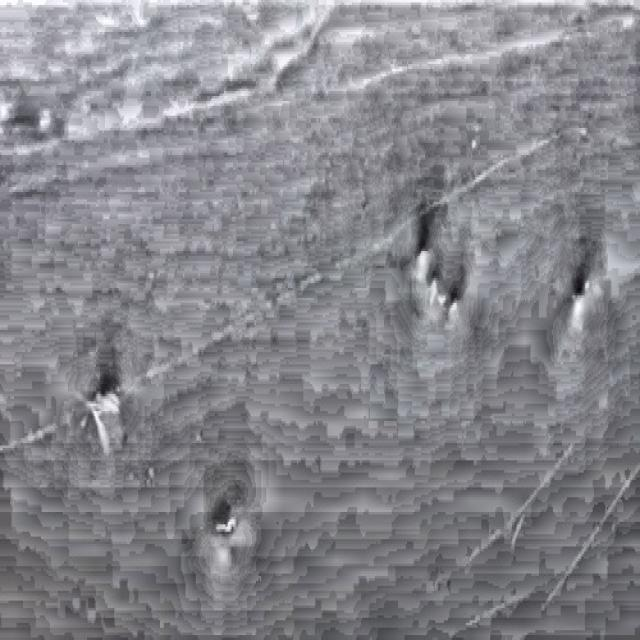dent: (81, 330, 139, 443), (407, 234, 462, 335), (552, 246, 614, 318), (207, 493, 247, 547)
